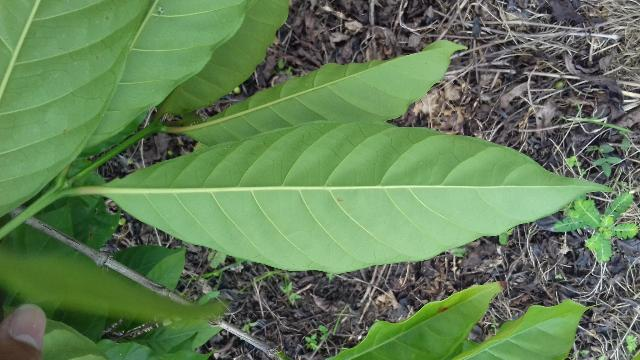red_spider_mite: (107, 125, 613, 274)
